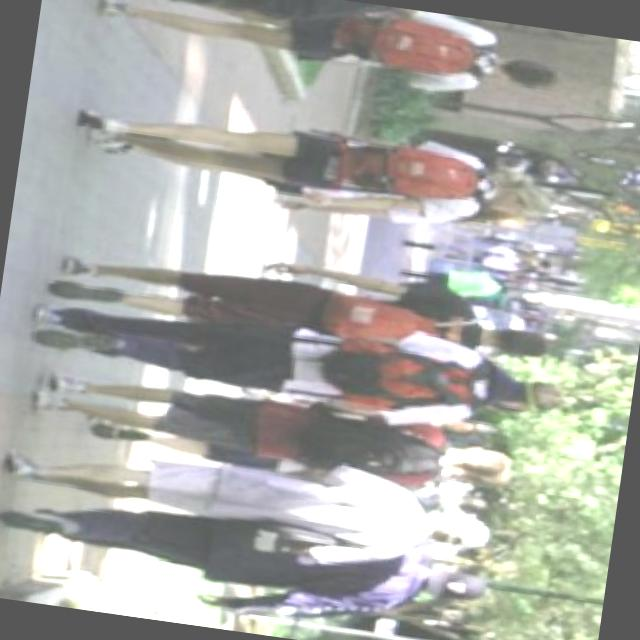Person: (30, 85, 551, 244), (22, 301, 566, 448), (22, 225, 558, 366), (0, 485, 487, 640), (0, 441, 489, 595), (28, 368, 518, 501), (75, 0, 567, 119)
